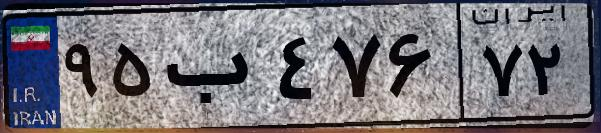2: (525, 38, 570, 115)
4: (270, 28, 330, 110)
5: (110, 28, 158, 98)
6: (385, 28, 445, 110)
7: (330, 28, 385, 110), (475, 38, 525, 113)
9: (57, 26, 110, 100)
ب: (158, 20, 270, 120)
